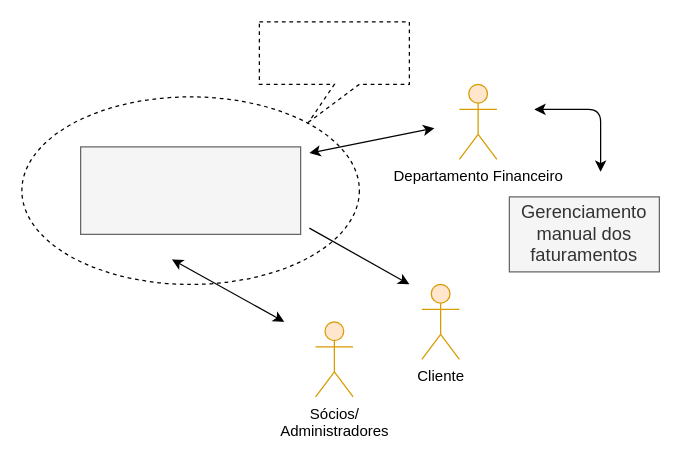
The diagram is 681 pixels wide and 464 high, and some of its shapes have lost their labels. The shapes that lost their labels are listed below. From the top down, each one's centre as x and y in pixels, then its label:
(333,71): Fronteira Sistêmica
(190,190): CRM - Customer Relationship Management
